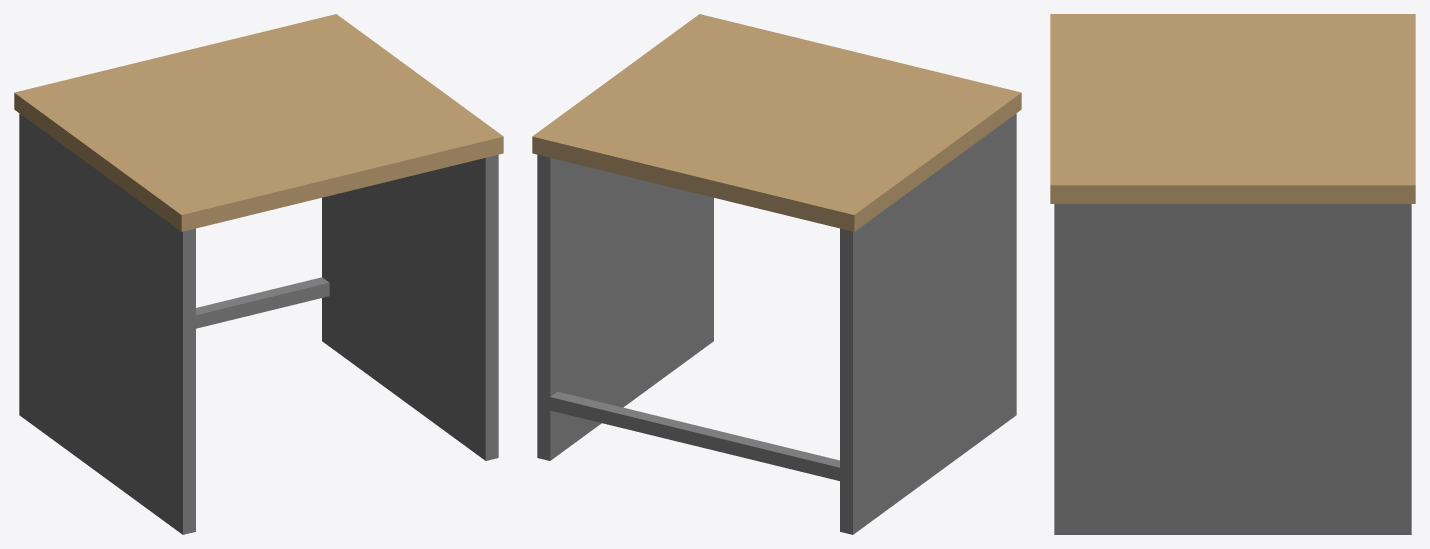
Rendered from desk.gltf.
3 renders of one model, left to right at view 1: azimuth 30°, elevation 25°; view 2: azimuth 150°, elevation 25°; view 3: azimuth 270°, elevation 25°, orthographic. The views are drawn at different scales.
Visible parts, largest first — view 1: top, panel_L, panel_R, stretcher; view 2: top, panel_L, panel_R, stretcher; view 3: panel_R, top.
Part boxes in pixels (x1,y1,x2,y2): top: [14, 14, 503, 231]; panel_L: [19, 113, 195, 534]; panel_R: [322, 154, 498, 460]; stretcher: [196, 277, 329, 328]; top: [532, 14, 1021, 231]; panel_L: [840, 113, 1016, 534]; panel_R: [537, 154, 713, 460]; stretcher: [550, 391, 839, 480]; panel_R: [1054, 204, 1411, 534]; top: [1050, 14, 1415, 203].
Size of the model in its own units: 1 by 0.955 by 0.9.
